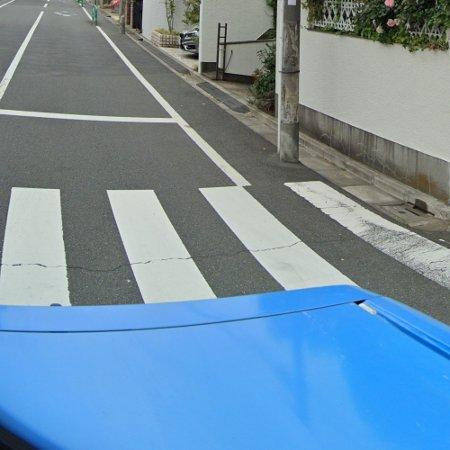crosswalks: (0, 176, 445, 309)
